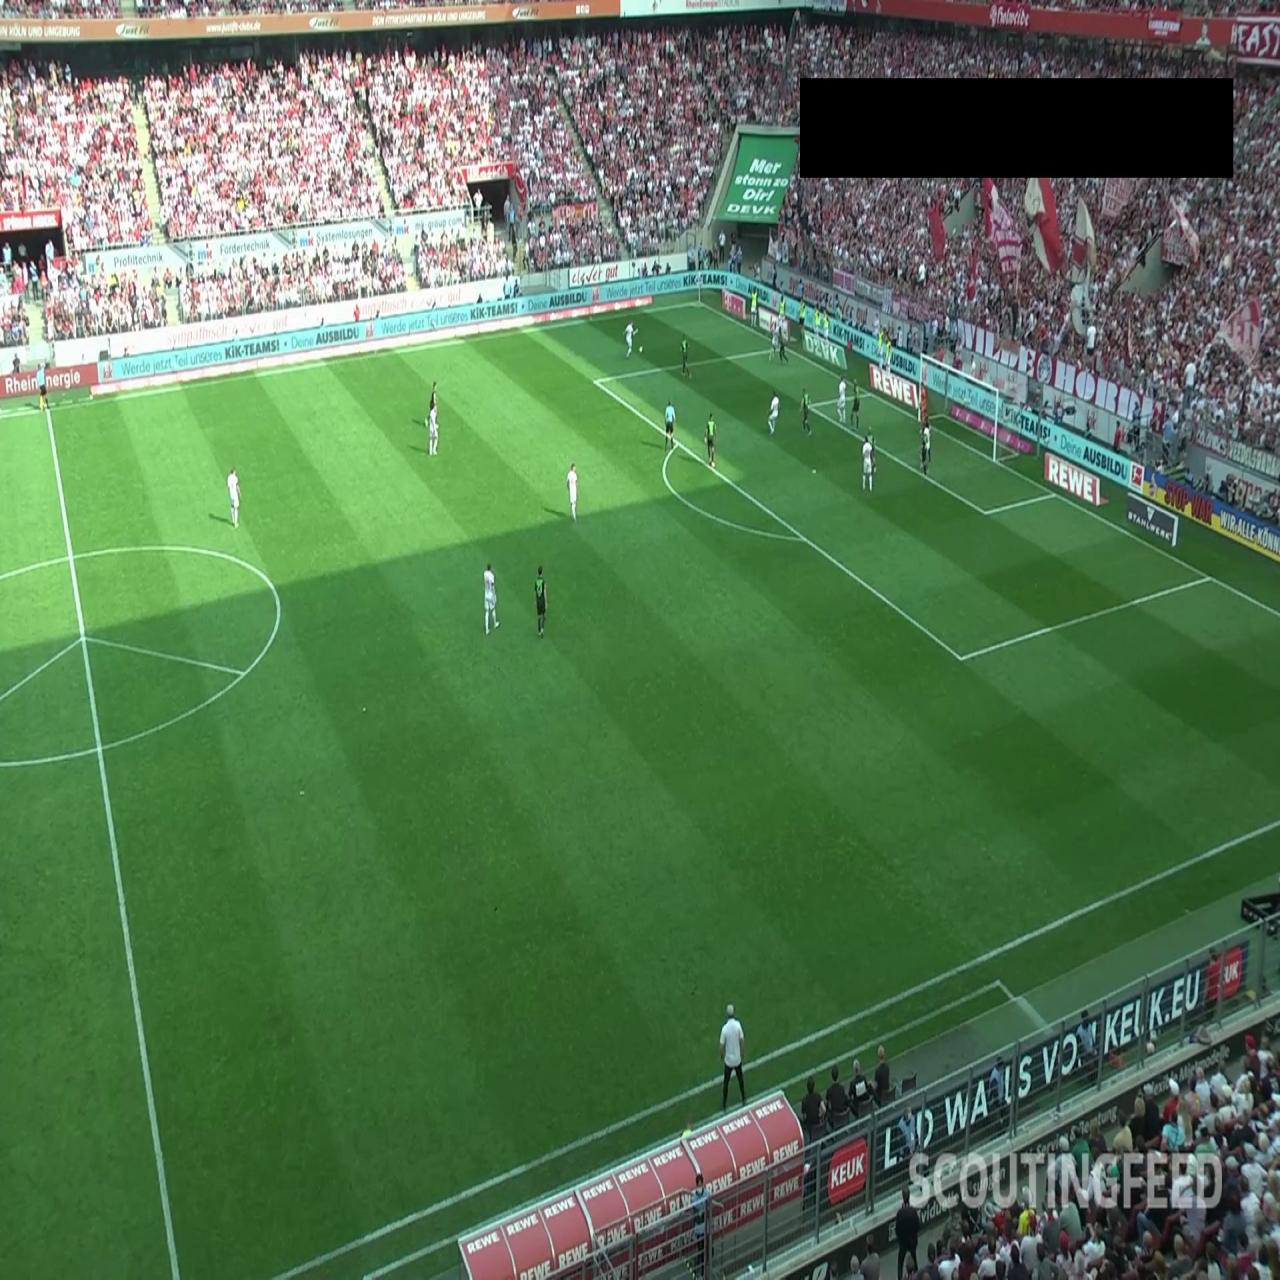ball: (638, 346, 644, 354)
goalkeeper: (918, 380, 928, 435)
player: (484, 561, 499, 634), (534, 566, 547, 636), (227, 464, 241, 528), (424, 380, 440, 430), (566, 462, 578, 523), (864, 423, 878, 475), (862, 433, 874, 493), (704, 412, 717, 467), (427, 402, 440, 456), (850, 377, 861, 434), (767, 392, 780, 436), (623, 320, 638, 358), (777, 325, 790, 366), (922, 414, 932, 464), (801, 386, 811, 434), (768, 320, 779, 362), (837, 378, 847, 423), (681, 335, 691, 377), (920, 427, 928, 475)
referee: (36, 362, 50, 412), (664, 397, 676, 452)
